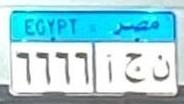6: (74, 49, 92, 87), (15, 49, 32, 87), (34, 49, 51, 86), (54, 51, 71, 85)
alif: (105, 52, 115, 85)
jeem: (124, 50, 146, 85)
noon: (151, 52, 171, 83)
